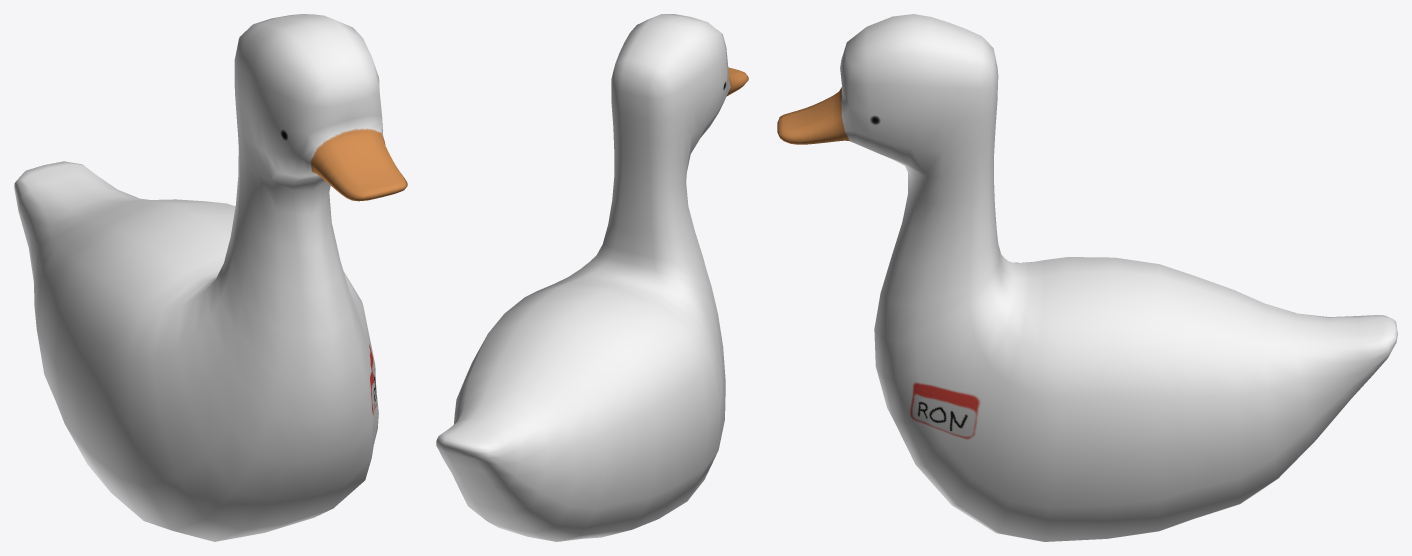
File: duck_06.glb
3 renders of one model, left to right at view 1: azimuth 30°, elevation 25°; view 2: azimuth 150°, elevation 25°; view 3: azimuth 270°, elevation 25°, orthographic. The views are drawn at different scales.
Visible parts, largest first — view 1: Cube.001; view 2: Cube.001; view 3: Cube.001.
Boxes of the visible parts, x1=… form: Cube.001: x1=14, y1=14, x2=407, y2=541; Cube.001: x1=436, y1=14, x2=748, y2=541; Cube.001: x1=777, y1=14, x2=1397, y2=541.
Size of the model in its own units: 1.88 by 3.93 by 4.43.
Materials: 1 (1 with a texture image).
